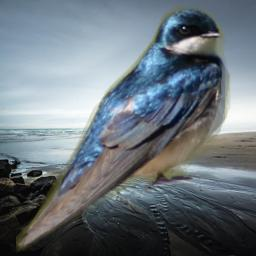Swallow: (16, 2, 232, 256)
